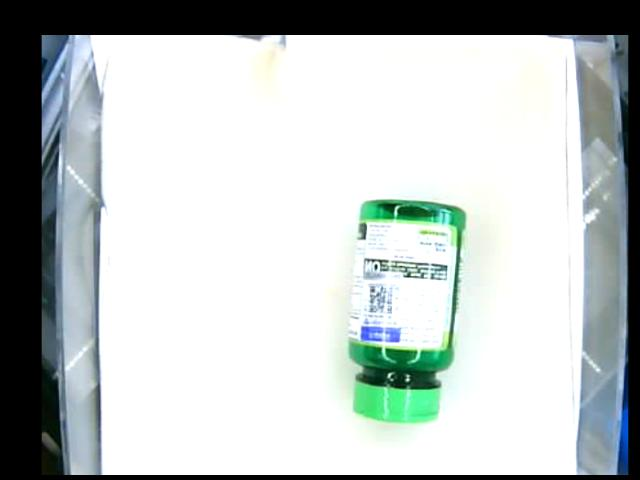Bottle: (350, 197, 468, 421)
